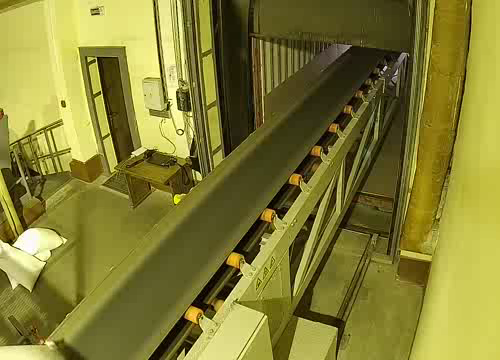bag: (0, 329, 71, 360)
